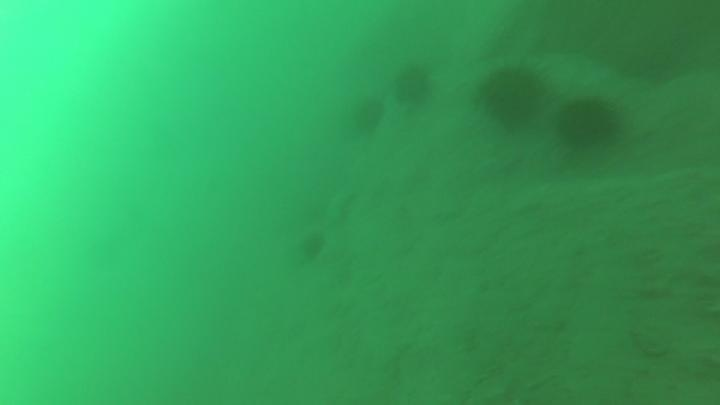echinus: (474, 59, 550, 132), (552, 93, 623, 154), (391, 61, 436, 111), (348, 93, 389, 137), (297, 229, 329, 263)
